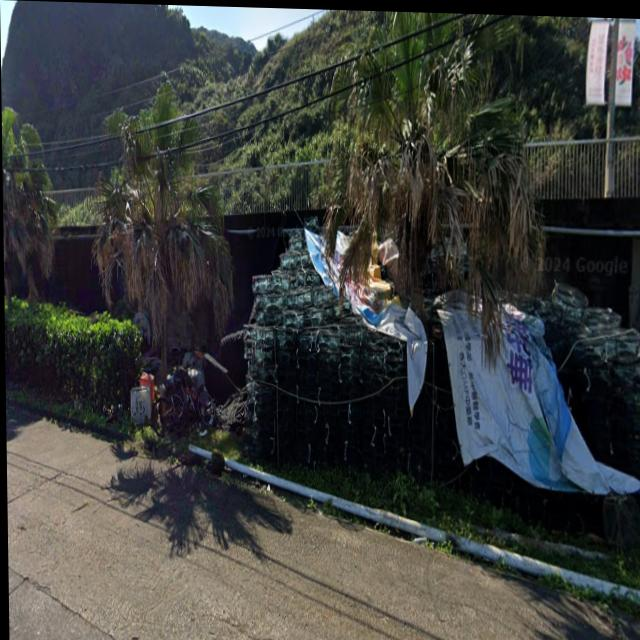pollute: (248, 237, 640, 505), (131, 323, 221, 440)
